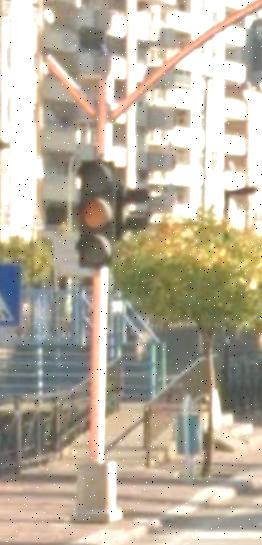yellowlight: (78, 162, 116, 270)
